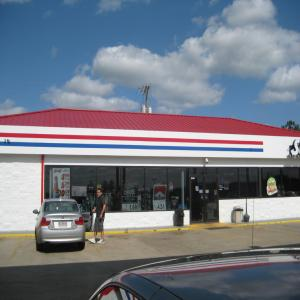Vehicle-registration-plate: (58, 221, 67, 228)
